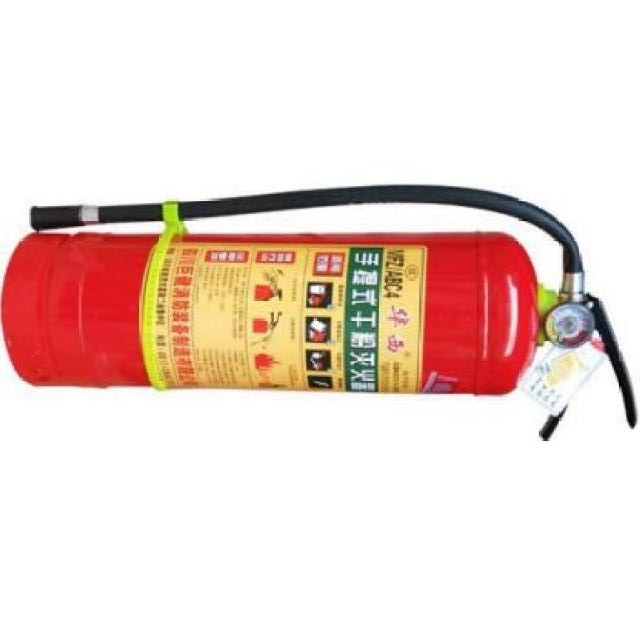fire extinguisher: (0, 183, 639, 438)
